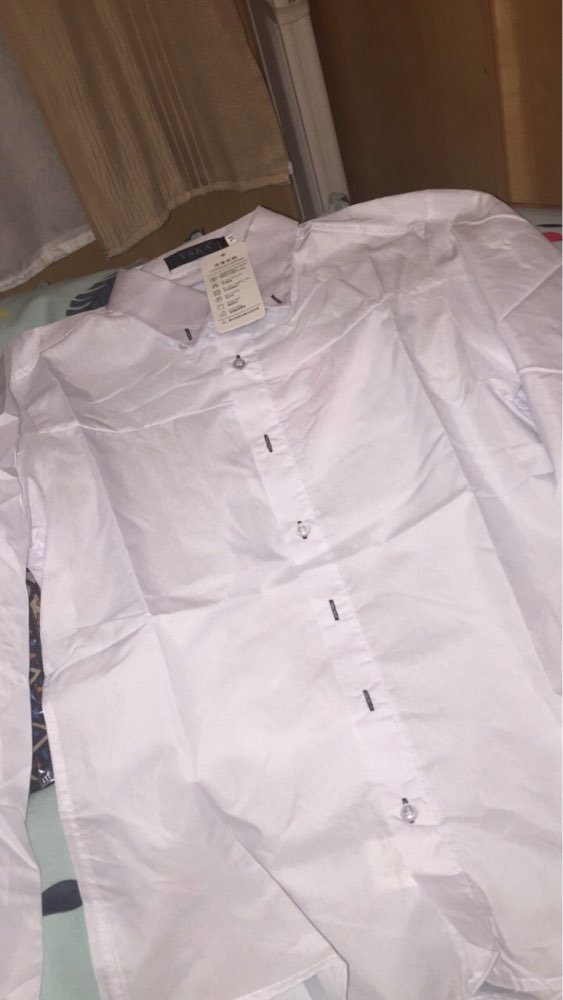shirts: (26, 206, 563, 997)
